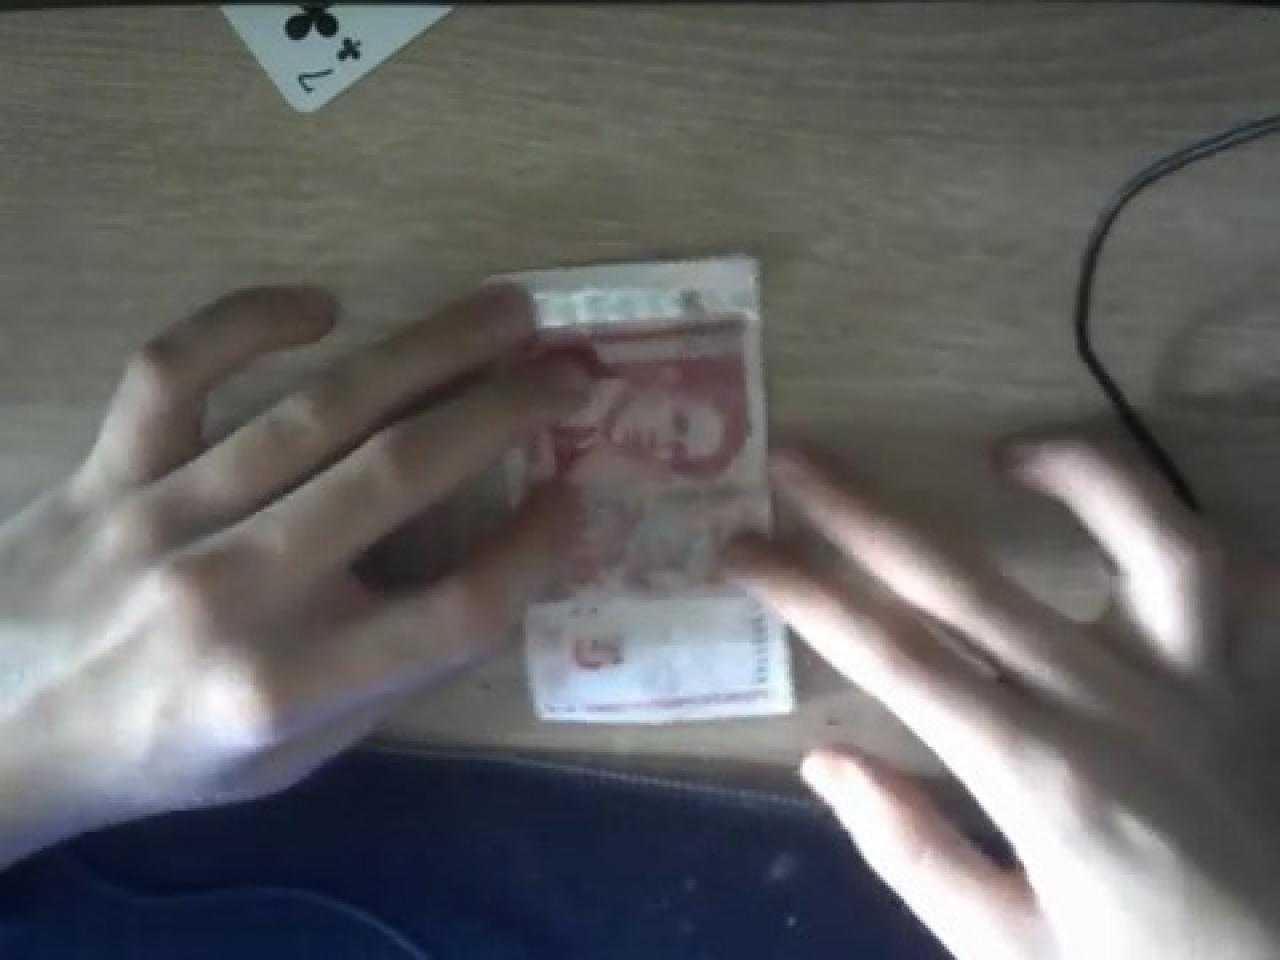5leva: (509, 253, 784, 720)
